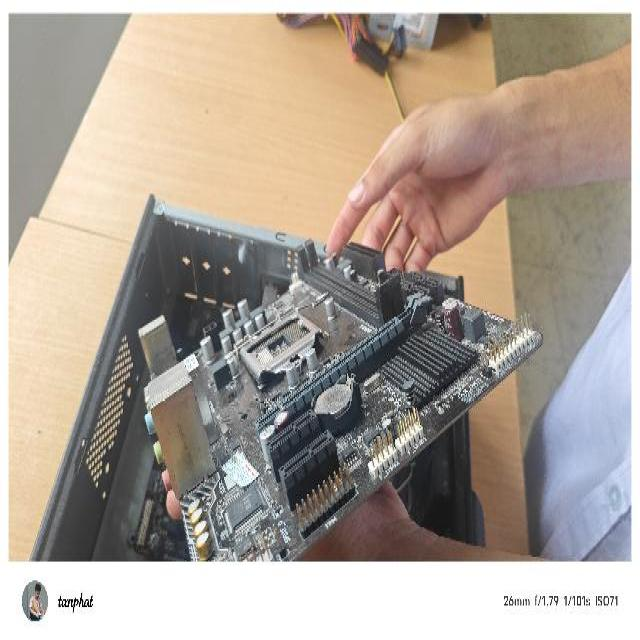Mainboard: (132, 234, 547, 563)
